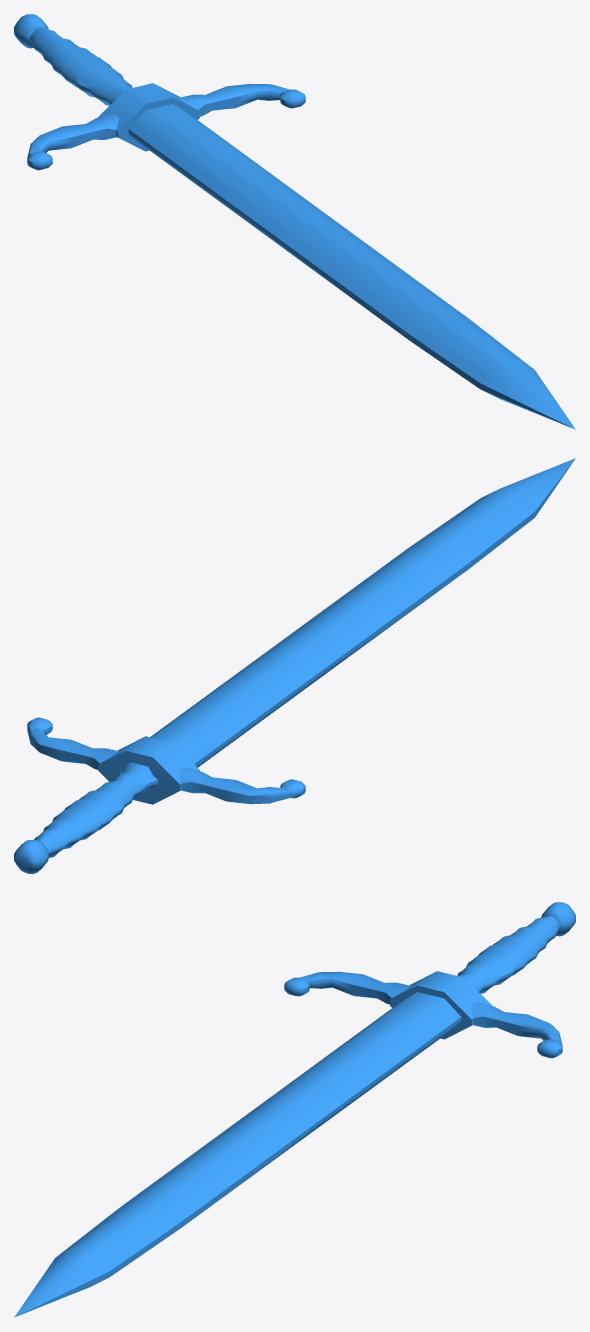
3 renders of one model, top to bottom at view 1: azimuth 30°, elevation 25°; view 2: azimuth 150°, elevation 25°; view 3: azimuth 330°, elevation 25°, orthographic.
Parts seen in each view (by area): view 1: split_parent_0; view 2: split_parent_0; view 3: split_parent_0.
Part boxes in pixels (x1,y1,x2,y2): split_parent_0: (14,14,575,429); split_parent_0: (14,458,575,873); split_parent_0: (14,902,575,1317).
Bounding box in the file's own units: 0.2869 × 0.0472 × 1.
